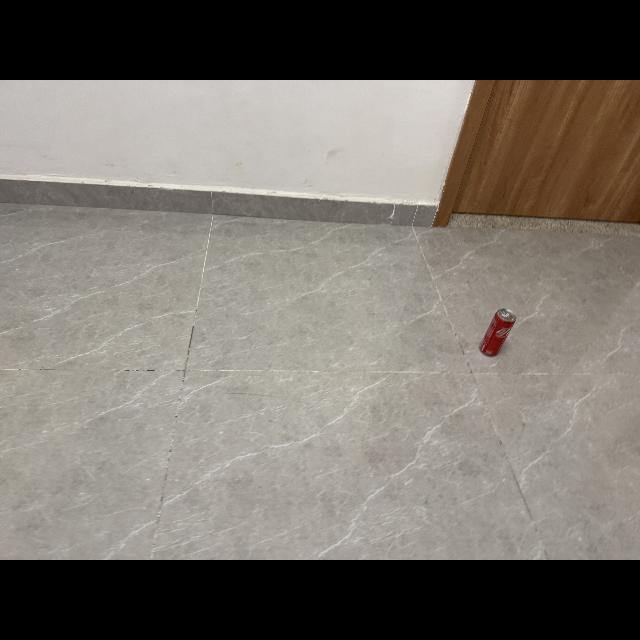Cola: (476, 304, 520, 358)
